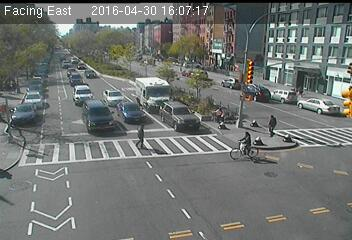neg: (284, 177, 309, 210), (239, 56, 263, 88), (187, 8, 210, 39), (203, 173, 223, 200), (143, 75, 161, 99), (250, 134, 268, 157), (25, 142, 42, 164), (179, 66, 196, 88), (73, 12, 89, 34), (279, 84, 293, 103), (84, 66, 95, 80)
pos: (130, 121, 152, 150), (211, 103, 232, 132), (264, 112, 285, 139)
